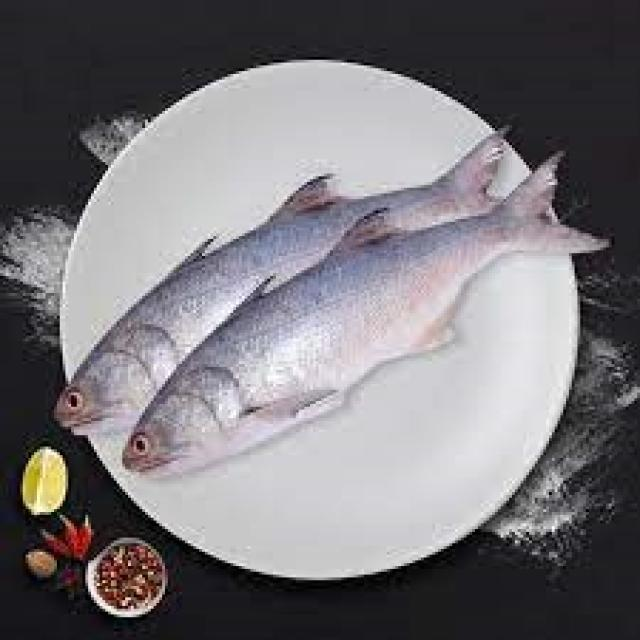Fourfinger-Threadfin: (37, 127, 619, 470)
